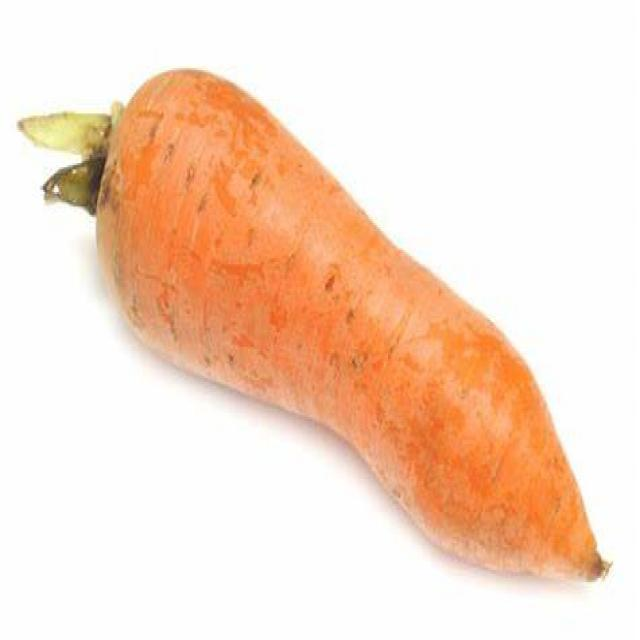Carrot: (24, 49, 609, 576)
